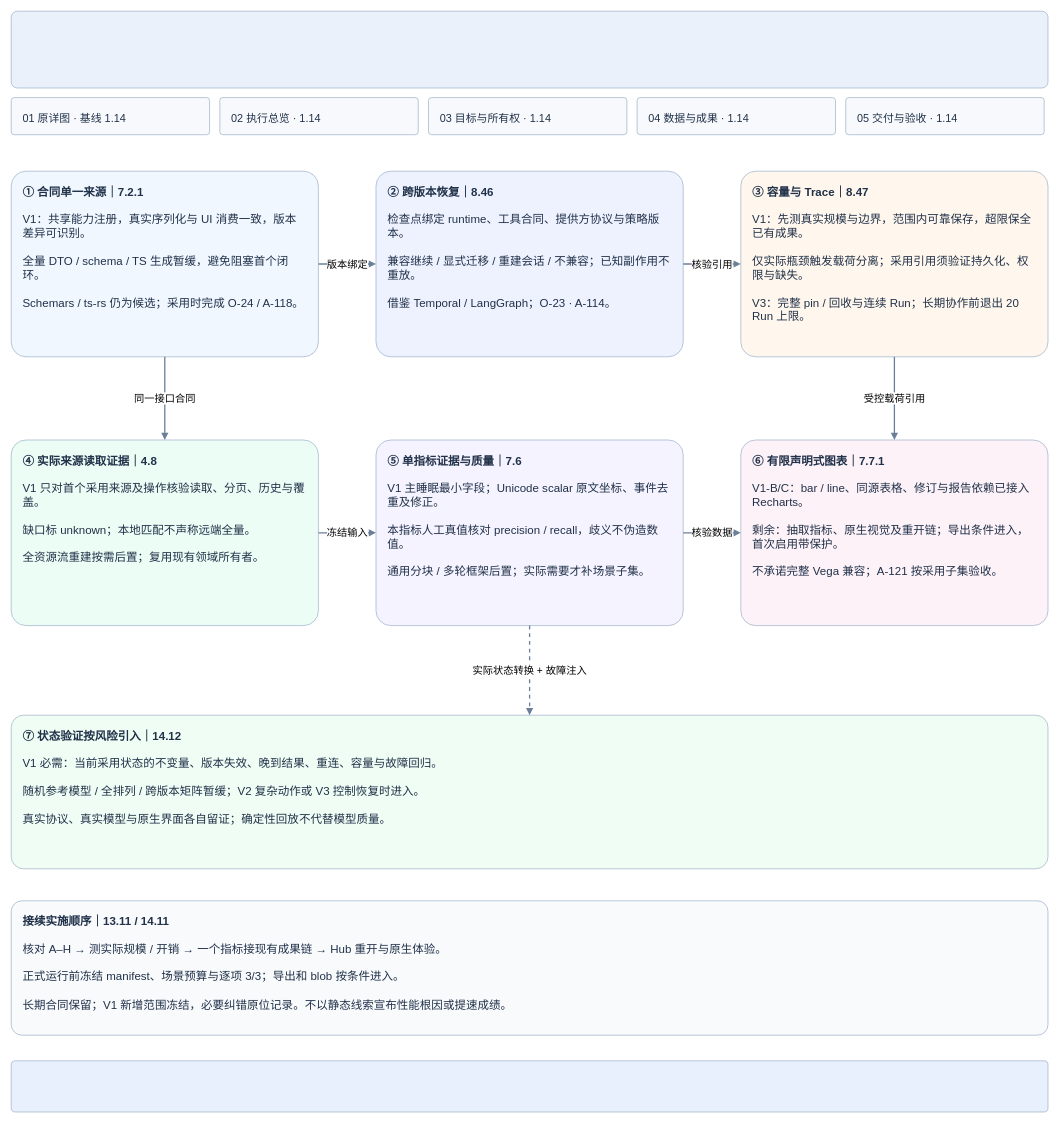
The diagram is 1059 pixels wide and 1123 high, and some of its shapes have lost their labels. Here are the shapes that lost their labels. From the top down, the centre of each, then its label:
point 529,49: 工程合同与成熟方案落地｜历史基线1.14。当前限定实现/延期及资源合同见08页与文档0.5。
point 529,1086: 07 V1 进度与体验验收 → A–H 当前证据 · 首版必需 / 暂缓 · 体验目标 · 十个代表用例
